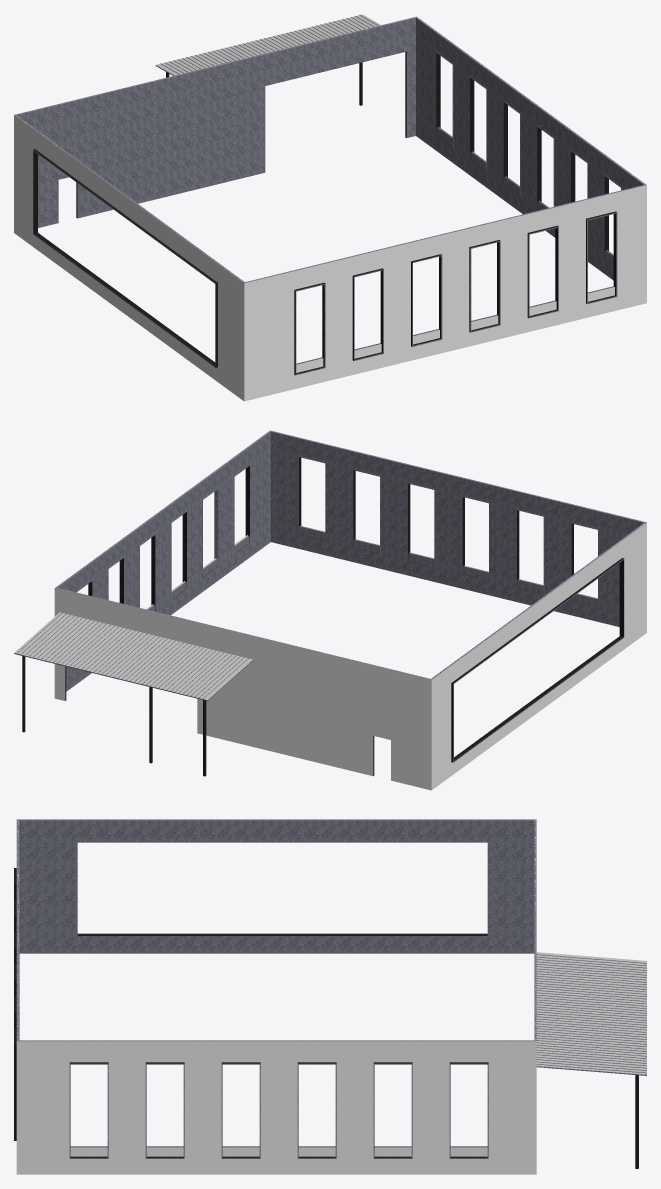
The model's file is Walls_Test_GLB.glb.
3 renders of one model, top to bottom at view 1: azimuth 30°, elevation 25°; view 2: azimuth 150°, elevation 25°; view 3: azimuth 270°, elevation 25°, orthographic. The views are drawn at different scales.
Visible parts, largest first — view 1: Mesh [02Zg], Mesh [077g], Mesh [07Ag], Mesh [02ag], Mesh [075g], Mesh [01hg], Mesh [06Og]; view 2: Mesh [02Yg], Mesh [078g], Mesh [07Ag], Mesh [02ag], Mesh [075g], Mesh [01hg], Mesh [06Og]; view 3: Mesh [02bg], Mesh [079g], Mesh [075g], Mesh [06Pg], Mesh [01hg].
Part boxes in pixels (x1,y1,x2,y2): Mesh [02Zg]: [244, 185, 646, 401]; Mesh [077g]: [17, 18, 415, 227]; Mesh [07Ag]: [416, 18, 643, 280]; Mesh [02ag]: [14, 115, 244, 400]; Mesh [075g]: [14, 16, 646, 283]; Mesh [01hg]: [34, 232, 215, 366]; Mesh [06Og]: [33, 150, 215, 367]; Mesh [02Yg]: [54, 588, 431, 790]; Mesh [078g]: [271, 431, 643, 626]; Mesh [07Ag]: [58, 432, 270, 691]; Mesh [02ag]: [431, 522, 646, 789]; Mesh [075g]: [55, 430, 646, 679]; Mesh [01hg]: [454, 636, 623, 760]; Mesh [06Og]: [453, 559, 624, 762]; Mesh [02bg]: [16, 1041, 536, 1174]; Mesh [079g]: [19, 820, 534, 953]; Mesh [075g]: [16, 819, 536, 1041]; Mesh [06Pg]: [76, 841, 488, 937]; Mesh [01hg]: [77, 933, 487, 935].
Size of the model in its own units: 21.64 by 6 by 25.82.
5 materials, 2 textured.
